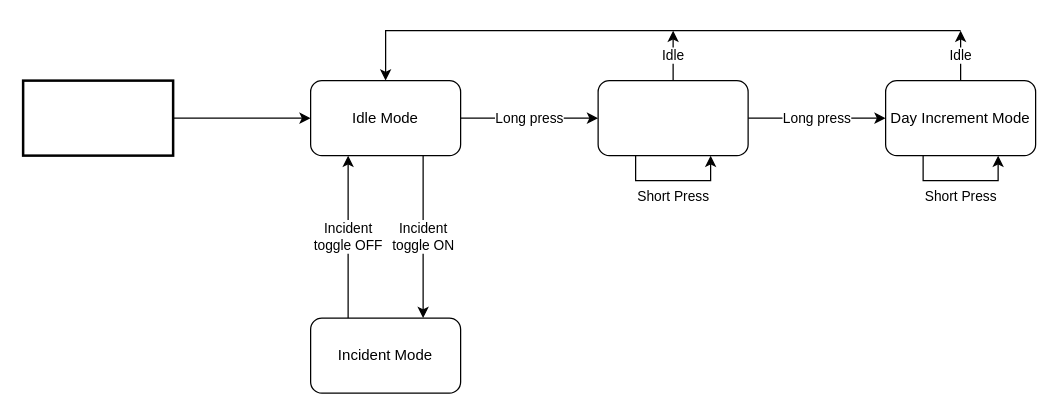
The diagram is 1058 pixels wide and 415 high, and some of its shapes have lost their labels. The centre of each missing label's shape, as x and y in pixels:
"Brightness Mode" belongs at (672,117).
"START" belongs at (97,117).
